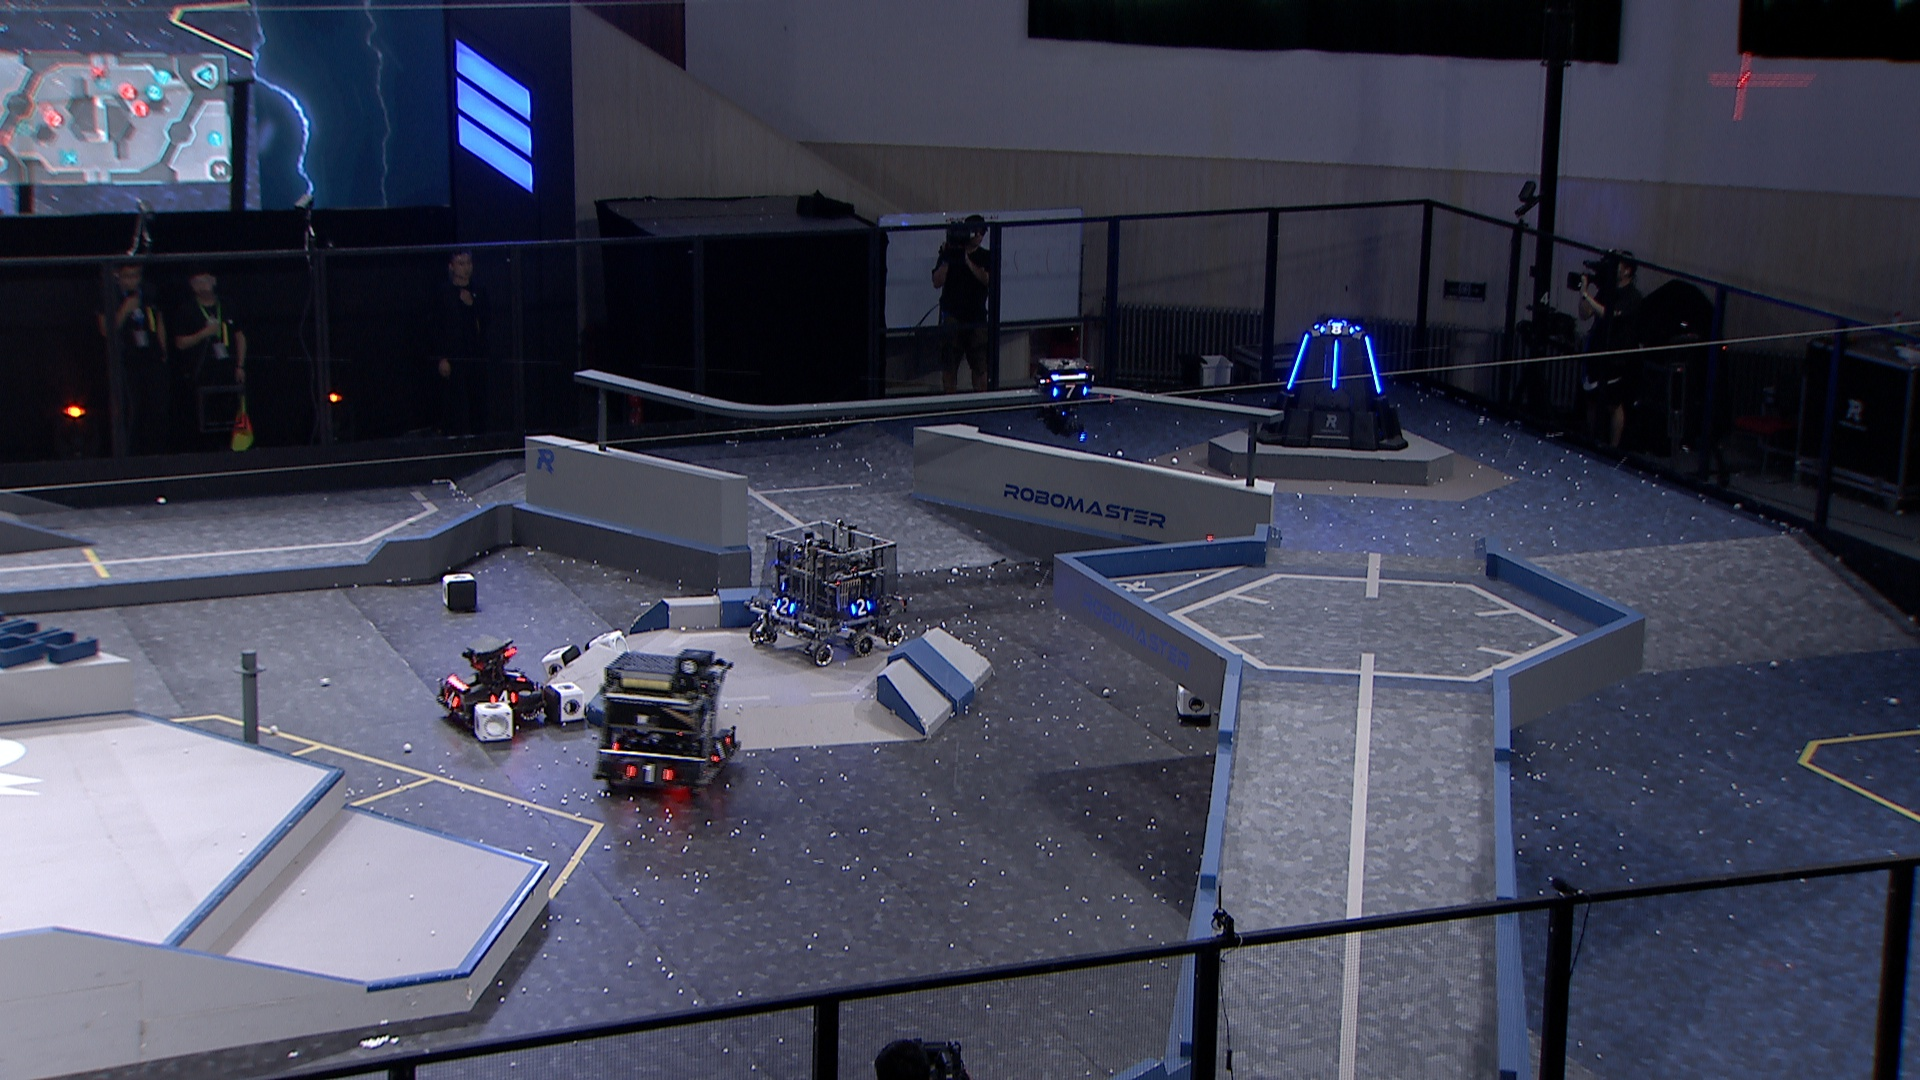armor: (1286, 332, 1311, 392), (622, 761, 675, 787), (1365, 334, 1385, 396), (1050, 384, 1088, 404), (1329, 339, 1342, 392), (711, 733, 732, 765), (1317, 322, 1356, 338), (487, 688, 520, 705), (847, 597, 874, 617), (438, 688, 460, 709), (773, 595, 796, 615), (504, 669, 527, 684)
base: (1254, 319, 1408, 455)
car: (744, 520, 905, 673), (593, 650, 738, 806), (433, 636, 551, 732)
watcher: (1033, 353, 1098, 442)
